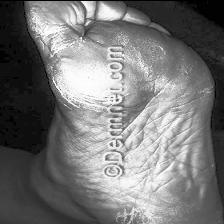Non-Cancerous Skin Condition: (54, 50, 104, 106), (124, 193, 187, 224)
